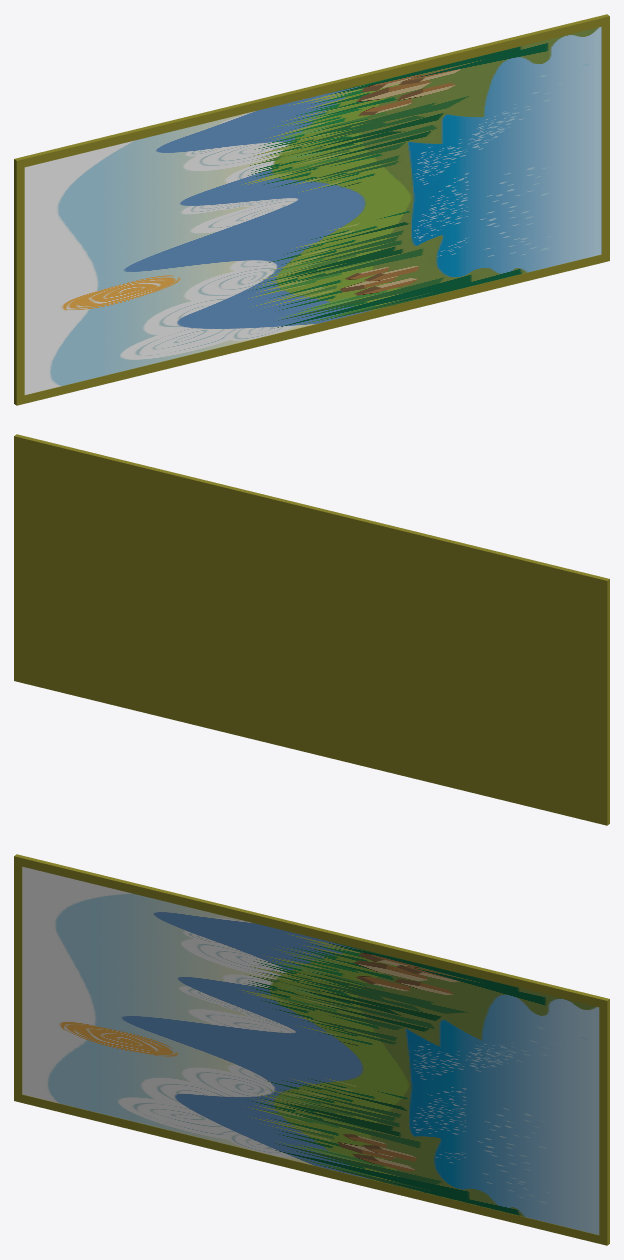
Rendered from largepainting_nice_1.FBX.
3 views of the same model, one above another, from view 1: azimuth 30°, elevation 25°; view 2: azimuth 150°, elevation 25°; view 3: azimuth 330°, elevation 25° (orthographic).
Parts seen in each view (by area): view 1: largepainting_nice_3; view 2: largepainting_nice_3; view 3: largepainting_nice_3.
Part boxes in pixels (box(x1,y1,x2,y2)): largepainting_nice_3: box(14, 14, 609, 405); largepainting_nice_3: box(14, 434, 609, 825); largepainting_nice_3: box(14, 854, 609, 1245).
Bounding box in the file's own units: 226 × 1.82 × 89.1.
